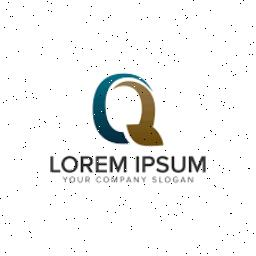q: (88, 68, 166, 150)
